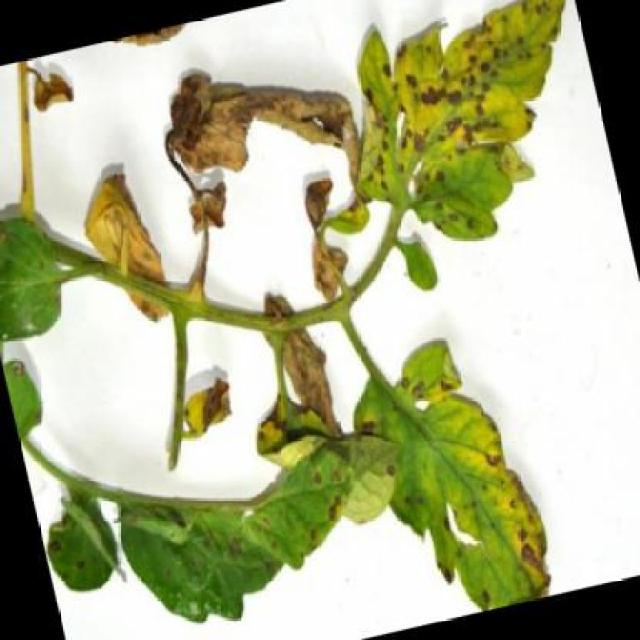Septoria leaf spot: (261, 1, 627, 312), (90, 390, 438, 640), (329, 316, 566, 629)
